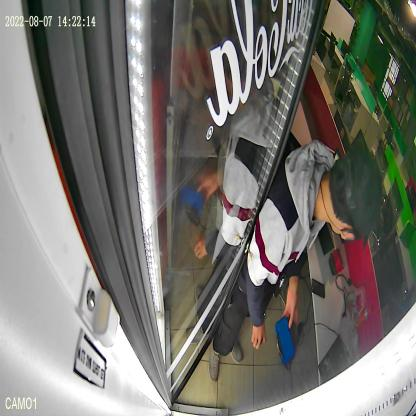blue: (275, 315, 299, 366)
